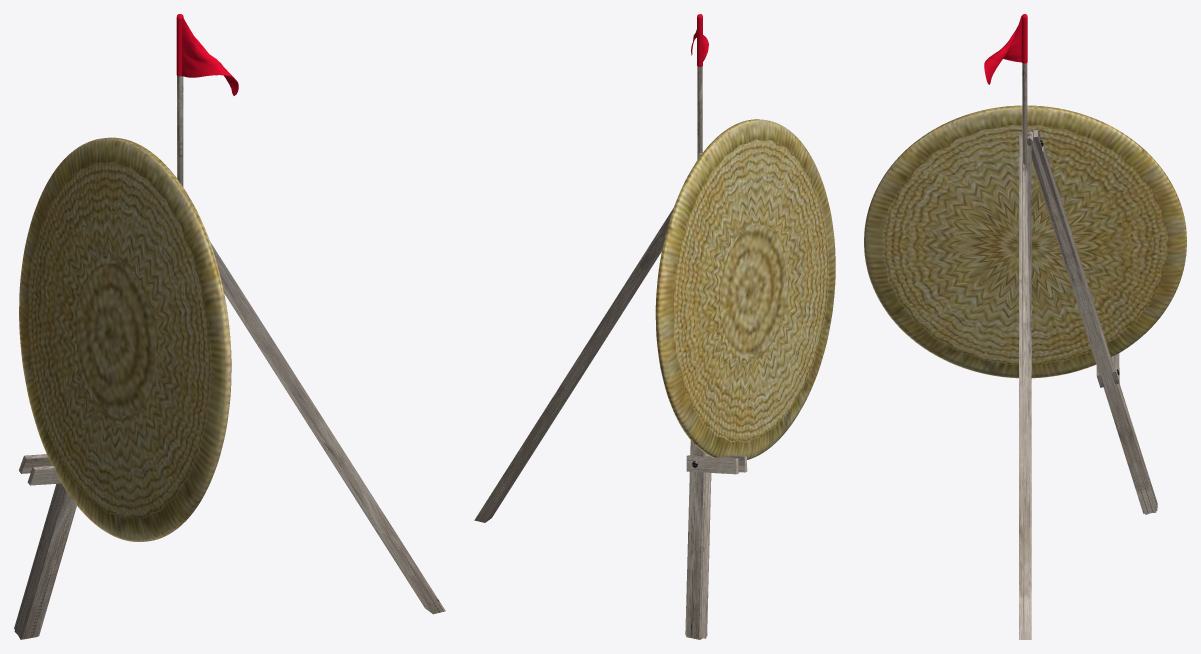
File: target.glb
3 renders of one model, left to right at view 1: azimuth 30°, elevation 25°; view 2: azimuth 150°, elevation 25°; view 3: azimuth 270°, elevation 25°, orthographic. The views are drawn at different scales.
Visible parts, largest first — view 1: straw_target, Poteau.001, Poteau.000, Drapeau, hampe_drapeau; view 2: straw_target, Poteau.000, Poteau.001, hampe_drapeau; view 3: straw_target, Poteau.000, Poteau.001, Drapeau, hampe_drapeau.
Part boxes in pixels (left/top/right/bottom): straw_target: left=19, top=137, right=231, bottom=541; Poteau.001: left=210, top=242, right=445, bottom=614; Poteau.000: left=14, top=454, right=76, bottom=639; Drapeau: left=176, top=14, right=238, bottom=95; hampe_drapeau: left=177, top=75, right=183, bottom=186; straw_target: left=655, top=119, right=835, bottom=459; Poteau.000: left=685, top=153, right=747, bottom=639; Poteau.001: left=474, top=208, right=673, bottom=522; hampe_drapeau: left=697, top=66, right=702, bottom=159; straw_target: left=864, top=105, right=1186, bottom=378; Poteau.000: left=1027, top=130, right=1157, bottom=514; Poteau.001: left=1019, top=134, right=1031, bottom=639; Drapeau: left=984, top=14, right=1027, bottom=84; hampe_drapeau: left=1022, top=63, right=1027, bottom=164.
Size of the model in its own units: 1.32 by 2.29 by 1.27.
4 materials, 3 textured.
